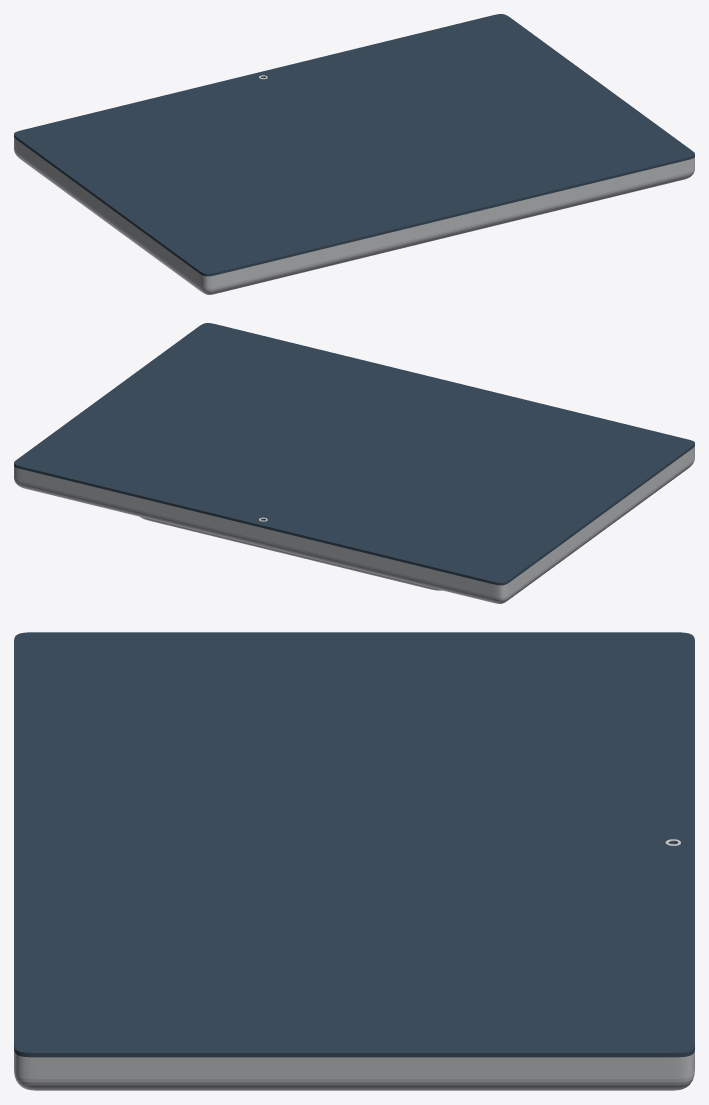
Rendered from active-poe.glb.
The picture shows the model from 3 angles, top to bottom: view 1: azimuth 30°, elevation 25°; view 2: azimuth 150°, elevation 25°; view 3: azimuth 270°, elevation 25°; orthographic projection. The views are drawn at different scales.
Visible parts, largest first — view 1: LCD, Body; view 2: LCD, Body; view 3: LCD, Body.
Part boxes in pixels (<box>): LCD: <box>14,14,694,276</box>; Body: <box>14,77,694,294</box>; LCD: <box>14,323,694,585</box>; Body: <box>14,446,694,603</box>; LCD: <box>14,632,694,1057</box>; Body: <box>14,843,694,1090</box>.
Size of the model in its own units: 0.2436 by 0.0234 by 0.1666.
